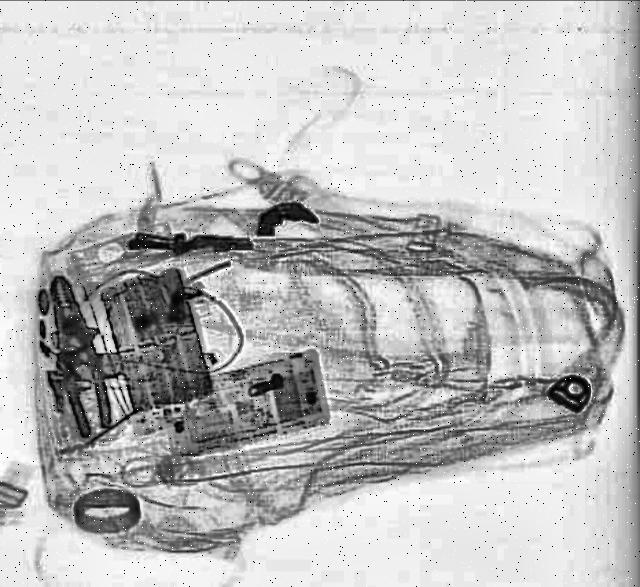Pliers: (36, 272, 124, 440)
